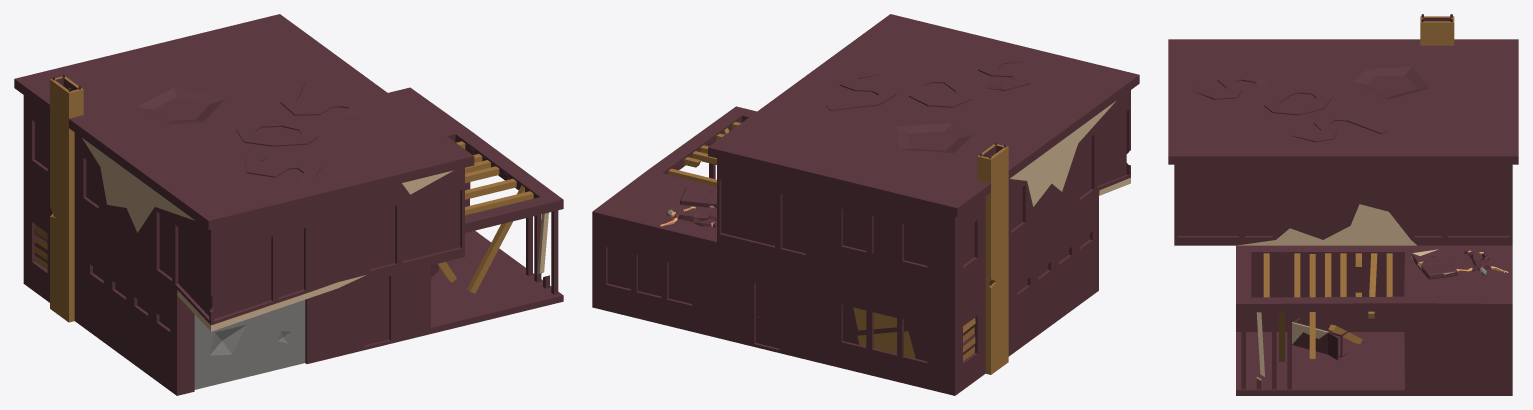
Rendered from building-house-modern-apocalypse-a.fbx.
The picture shows the model from 3 angles, left to right: view 1: azimuth 30°, elevation 25°; view 2: azimuth 150°, elevation 25°; view 3: azimuth 270°, elevation 25°; orthographic projection. The views are drawn at different scales.
Visible parts, largest first — view 1: building-house-modern-apocalypse-a; view 2: building-house-modern-apocalypse-a; view 3: building-house-modern-apocalypse-a.
Boxes of the visible parts, <box> form: building-house-modern-apocalypse-a: <box>14,14,563,395</box>; building-house-modern-apocalypse-a: <box>592,14,1139,395</box>; building-house-modern-apocalypse-a: <box>1168,14,1518,395</box>.
Size of the model in its own units: 13.3 by 7.53 by 11.4.
